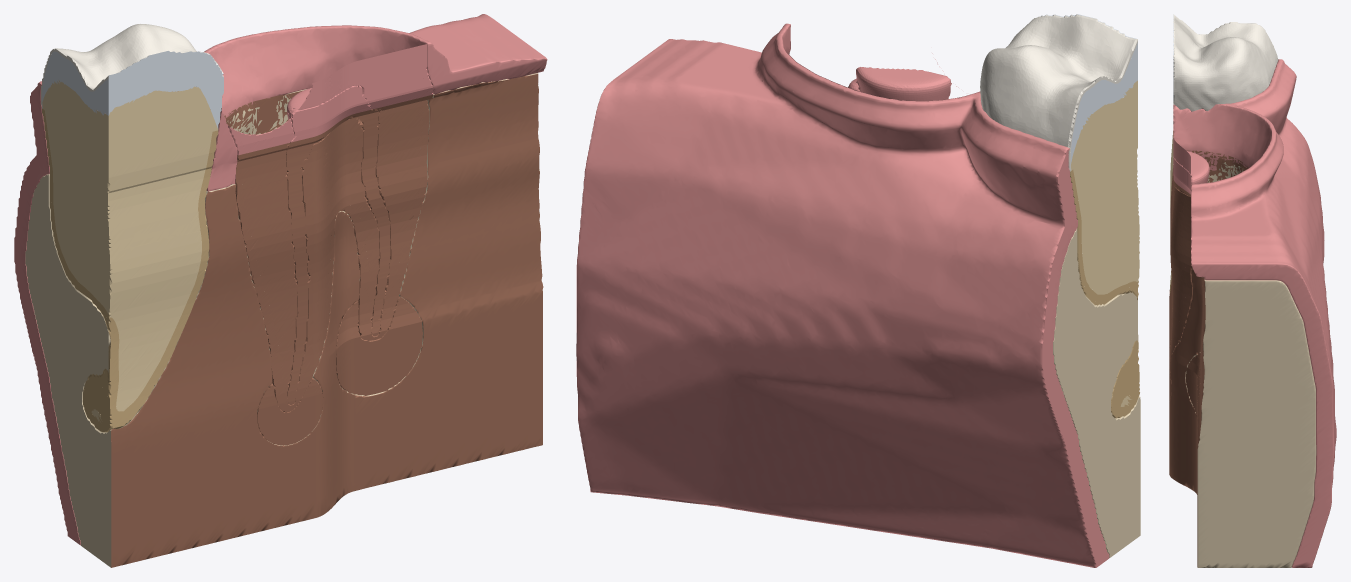
The model's file is ext-later.glb.
The picture shows the model from 3 angles, left to right: view 1: azimuth 30°, elevation 25°; view 2: azimuth 150°, elevation 25°; view 3: azimuth 270°, elevation 25°; orthographic projection. The views are drawn at different scales.
Visible parts, largest first — view 1: bone_1, new bone, teeth teeth_2, gum, bone, new gum, teeth teeth_3, teeth teeth_1, teeth teeth_4, gum_1, teeth teeth; view 2: gum, bone, teeth teeth_4, teeth teeth_2, new gum, teeth teeth_3, teeth teeth_1, teeth teeth; view 3: bone, gum, teeth teeth_4, bone_1, new bone, new gum.
Boxes of the visible parts, <box> form: bone_1: <box>111,73,543,567</box>; new bone: <box>224,90,433,445</box>; teeth teeth_2: <box>42,80,218,422</box>; gum: <box>14,14,546,545</box>; bone: <box>25,73,539,567</box>; new gum: <box>228,44,433,155</box>; teeth teeth_3: <box>42,51,223,128</box>; teeth teeth_1: <box>43,109,218,429</box>; teeth teeth_4: <box>41,24,223,108</box>; gum_1: <box>207,43,547,191</box>; teeth teeth: <box>42,108,216,432</box>; gum: <box>576,23,1109,567</box>; bone: <box>1053,229,1140,557</box>; teeth teeth_4: <box>980,14,1137,171</box>; teeth teeth_2: <box>1071,80,1139,406</box>; new gum: <box>784,49,980,101</box>; teeth teeth_3: <box>1038,14,1137,164</box>; teeth teeth_1: <box>1071,170,1139,415</box>; teeth teeth: <box>1070,171,1139,418</box>; bone: <box>1178,162,1316,567</box>; gum: <box>1173,59,1336,567</box>; teeth teeth_4: <box>1173,14,1278,111</box>; bone_1: <box>1169,168,1205,567</box>; new bone: <box>1169,150,1248,417</box>; new gum: <box>1173,120,1268,194</box>.
Bounding box in the file's own units: 23.45 × 24.97 × 9.67.
